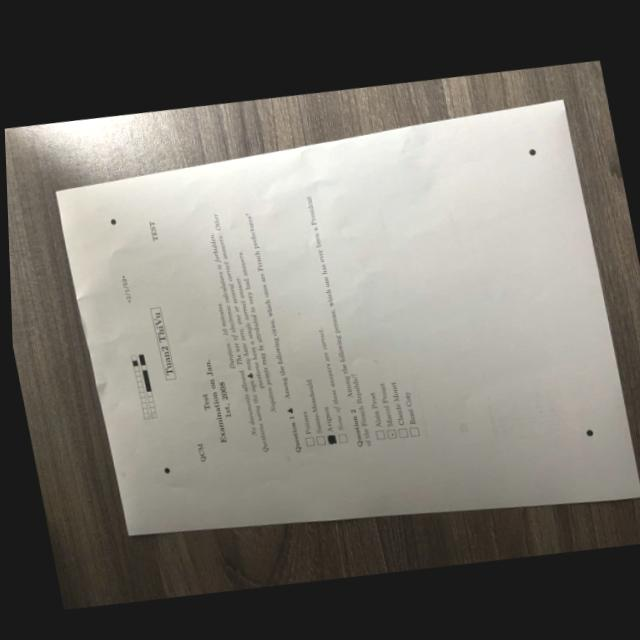Markers: (528, 147, 537, 156), (109, 218, 117, 225), (586, 429, 594, 436), (164, 467, 171, 474)
